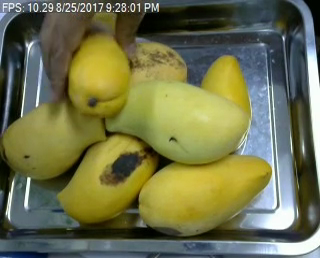Mango: (103, 82, 248, 166), (139, 154, 271, 233), (58, 132, 158, 225), (4, 99, 104, 177), (65, 47, 128, 115), (201, 54, 253, 120)
